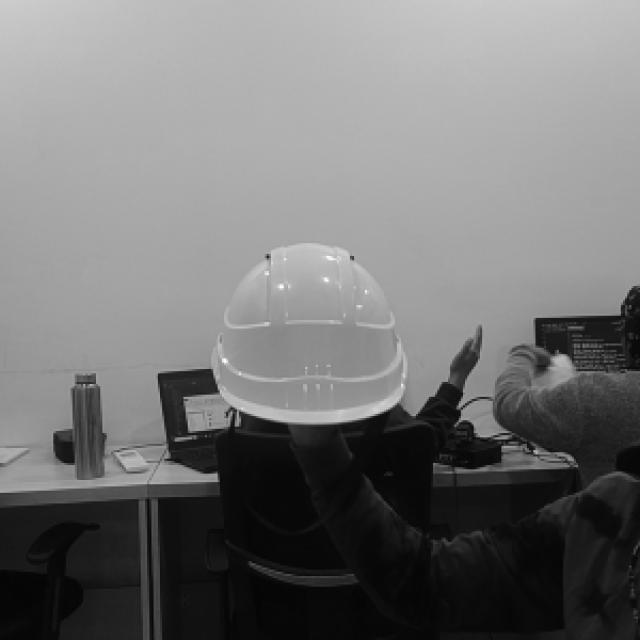safety_helmet: (210, 241, 409, 425)
